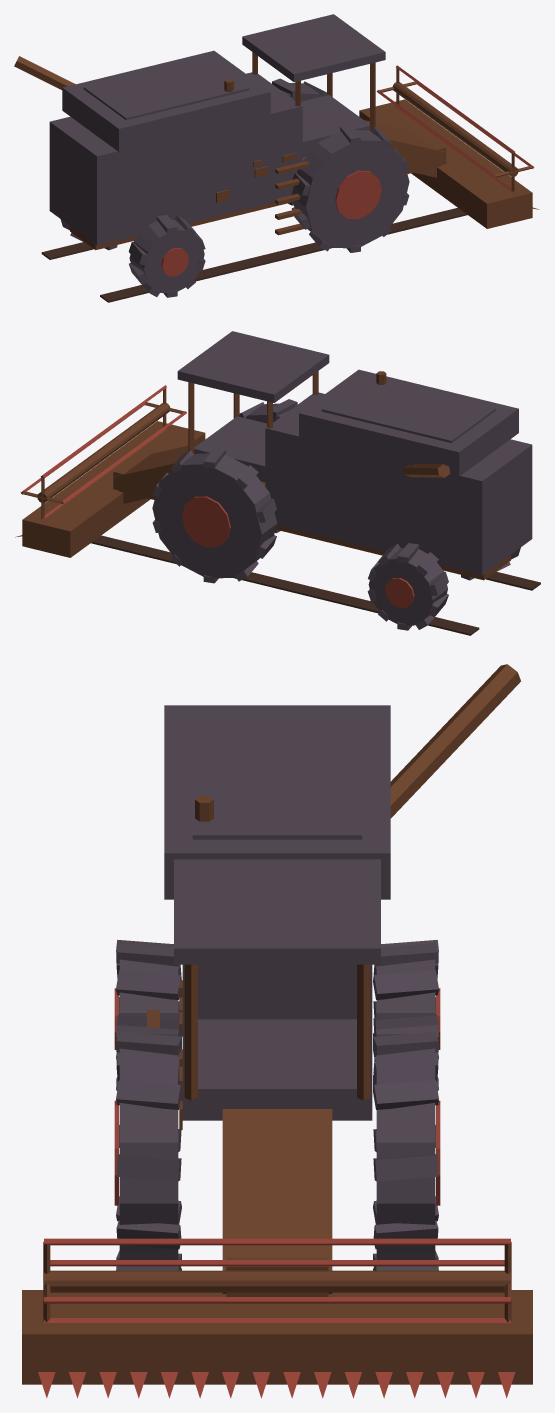
File: model.burned.glb
3 renders of one model, top to bottom at view 1: azimuth 30°, elevation 25°; view 2: azimuth 150°, elevation 25°; view 3: azimuth 270°, elevation 25°, orthographic. The views are drawn at different scales.
Visible parts, largest first — view 1: body; view 2: body; view 3: body.
Part boxes in pixels (x1,y1,x2,y2): body: (14,14,539,302); body: (15,331,540,635); body: (22,664,532,1398).
Bounding box in the file's own units: 6.53 × 2.77 × 3.5.
